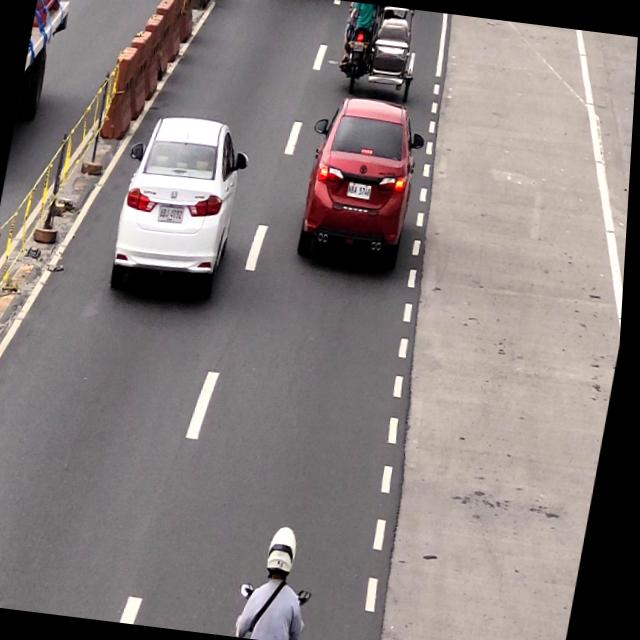Car: (109, 114, 251, 304), (297, 94, 422, 266)
License-Plate: (346, 180, 376, 204), (158, 204, 189, 224)
Motorcycle: (239, 523, 328, 640)
Tricycle: (331, 0, 430, 100)
